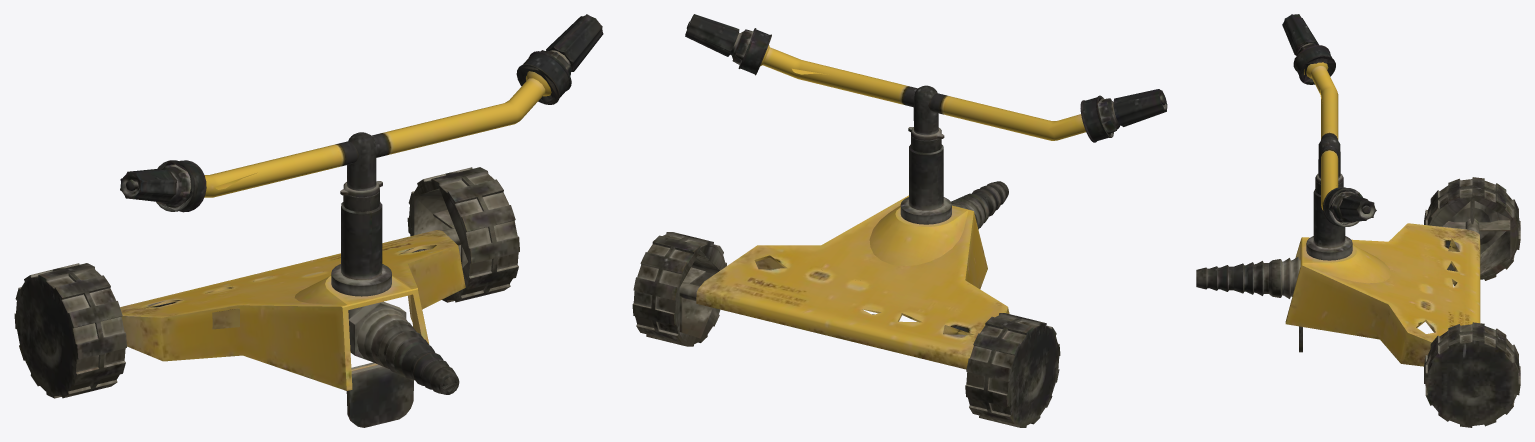
Rendered from garden_sprinkler_01.glb.
The picture shows the model from 3 angles, left to right: view 1: azimuth 30°, elevation 25°; view 2: azimuth 150°, elevation 25°; view 3: azimuth 270°, elevation 25°; orthographic projection. The views are drawn at different scales.
Parts seen in each view (by area): view 1: garden_sprinkler_01_body_main, garden_sprinkler_01_body_main_lo; view 2: garden_sprinkler_01_body_main, garden_sprinkler_01_body_main_lo; view 3: garden_sprinkler_01_body_main, garden_sprinkler_01_body_main_lo.
Part boxes in pixels (x1,y1,x2,y2): garden_sprinkler_01_body_main: (15, 14, 603, 427); garden_sprinkler_01_body_main_lo: (14, 36, 562, 398); garden_sprinkler_01_body_main: (633, 14, 1167, 427); garden_sprinkler_01_body_main_lo: (632, 31, 1112, 427); garden_sprinkler_01_body_main: (1196, 14, 1520, 421); garden_sprinkler_01_body_main_lo: (1205, 34, 1520, 427).
Size of the model in its own units: 0.3508 by 0.203 by 0.2491.
Materials: 1 (1 with a texture image).
